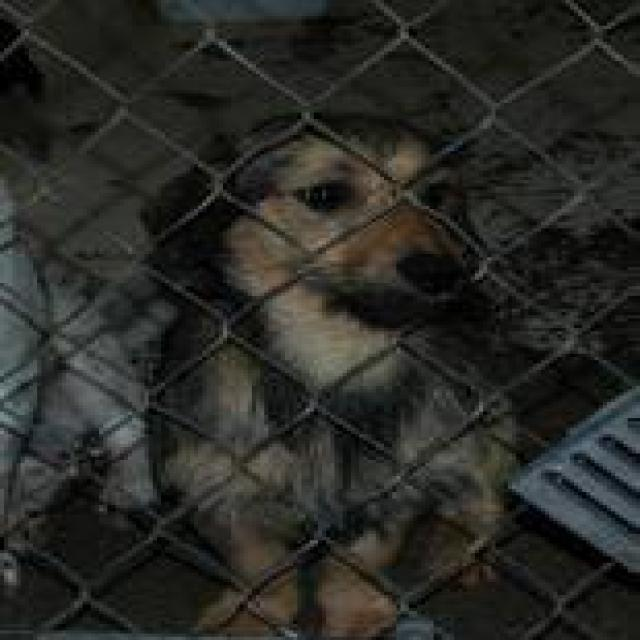dogs: (78, 87, 537, 640)
